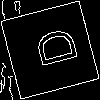D: (24, 24, 79, 72)
